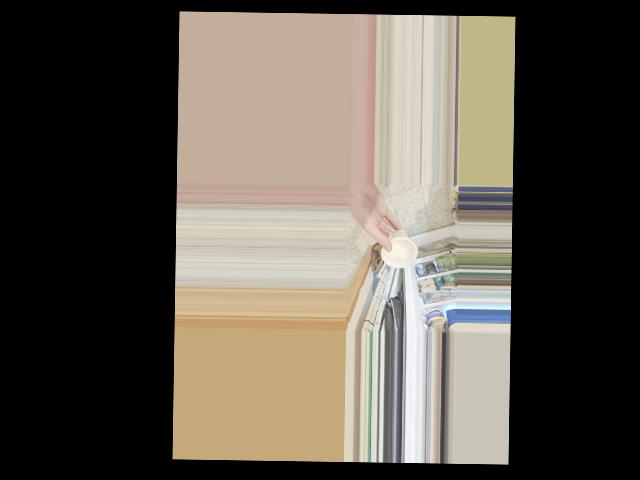cotage: (377, 226, 411, 268)
